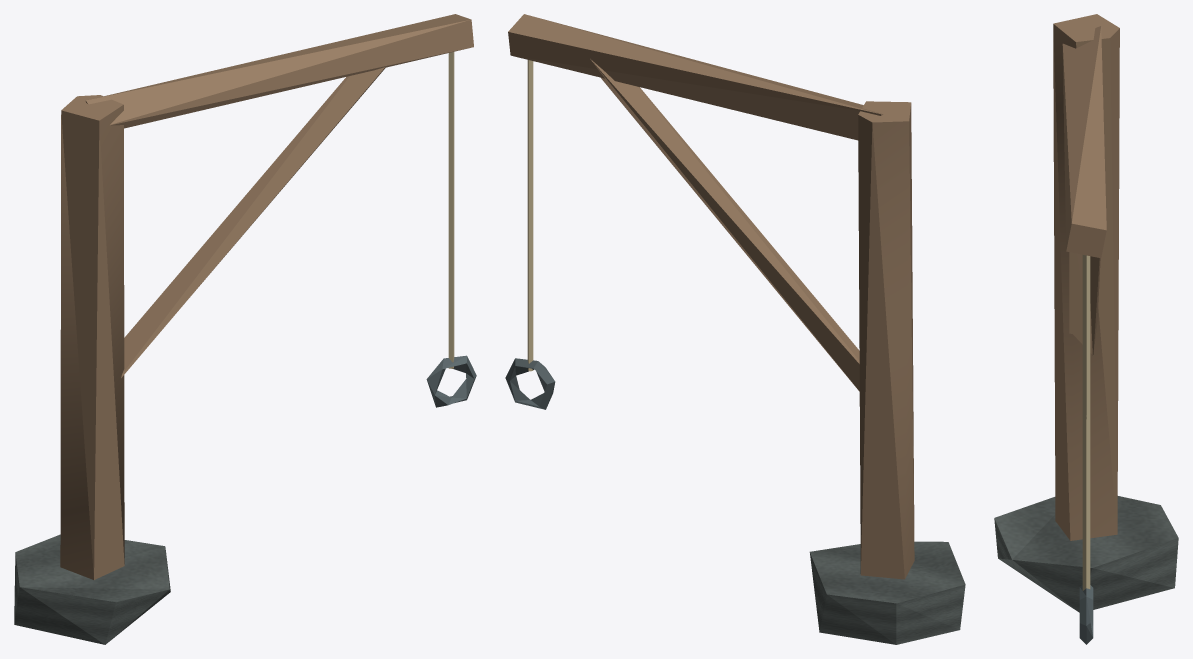
Rendered from harbor.hand_crane.lod1.glb.
The picture shows the model from 3 angles, left to right: view 1: azimuth 30°, elevation 25°; view 2: azimuth 150°, elevation 25°; view 3: azimuth 270°, elevation 25°; orthographic projection. The views are drawn at different scales.
Parts seen in each view (by area): view 1: Post, Arm, Base, Brace, Cable, Hook; view 2: Post, Arm, Base, Brace, Cable, Hook; view 3: Post, Base, Arm, Cable, Brace, Hook.
Part boxes in pixels (x1,y1,x2,y2): Post: [60, 95, 124, 579]; Arm: [85, 14, 473, 128]; Base: [14, 534, 170, 644]; Brace: [121, 67, 385, 377]; Cable: [448, 52, 454, 368]; Hook: [426, 355, 476, 407]; Post: [858, 101, 914, 579]; Arm: [508, 14, 883, 140]; Base: [809, 541, 965, 644]; Brace: [590, 59, 859, 391]; Cable: [527, 60, 533, 371]; Hook: [505, 358, 555, 409]; Post: [1053, 14, 1119, 540]; Base: [994, 496, 1178, 612]; Arm: [1062, 26, 1106, 258]; Cable: [1082, 255, 1090, 590]; Brace: [1069, 252, 1100, 355]; Hook: [1079, 585, 1093, 644].
Bounding box in the file's own units: 3.46 × 3.61 × 1.1.
4 materials, 1 textured.
